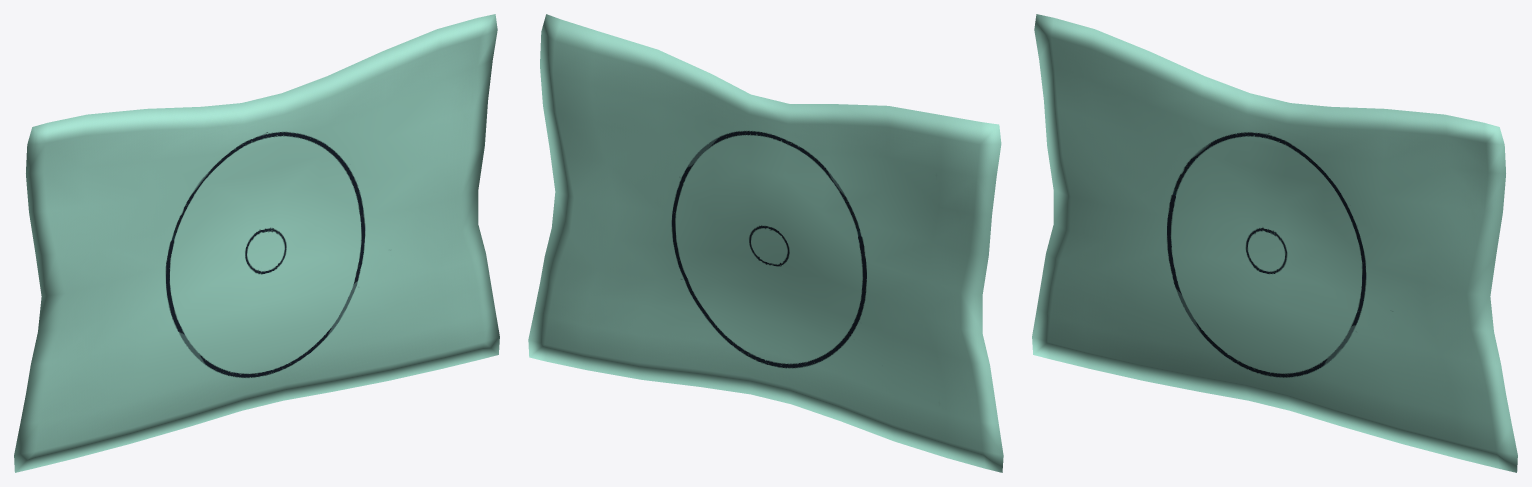
The model's file is tapestry.fbx.
3 renders of one model, left to right at view 1: azimuth 30°, elevation 25°; view 2: azimuth 150°, elevation 25°; view 3: azimuth 330°, elevation 25°, orthographic. The views are drawn at different scales.
Parts seen in each view (by area): view 1: Project_3:Mesh; view 2: Project_3:Mesh; view 3: Project_3:Mesh.
Part boxes in pixels (bbox=[...]): Project_3:Mesh: bbox=[14, 14, 499, 472]; Project_3:Mesh: bbox=[528, 14, 1003, 472]; Project_3:Mesh: bbox=[1032, 14, 1517, 472].
Size of the model in its own units: 1.53 by 1.05 by 0.0783.
Materials: 1 (1 with a texture image).
